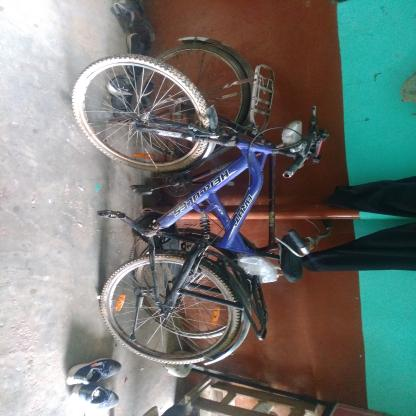bike: (62, 53, 336, 373)
